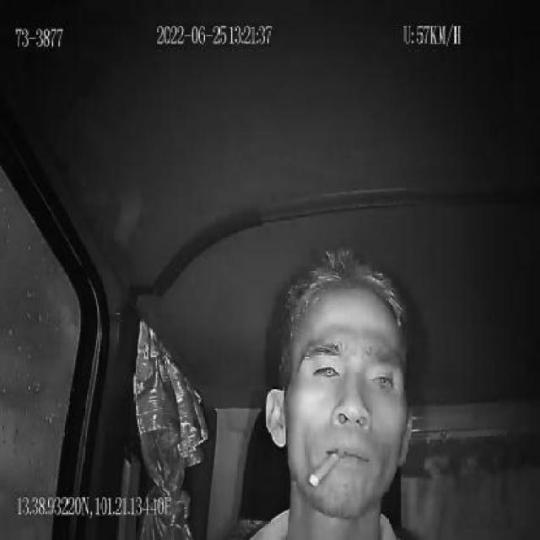smoking: (306, 448, 344, 486)
